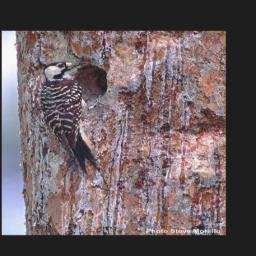Woodpecker: (41, 60, 98, 174)
